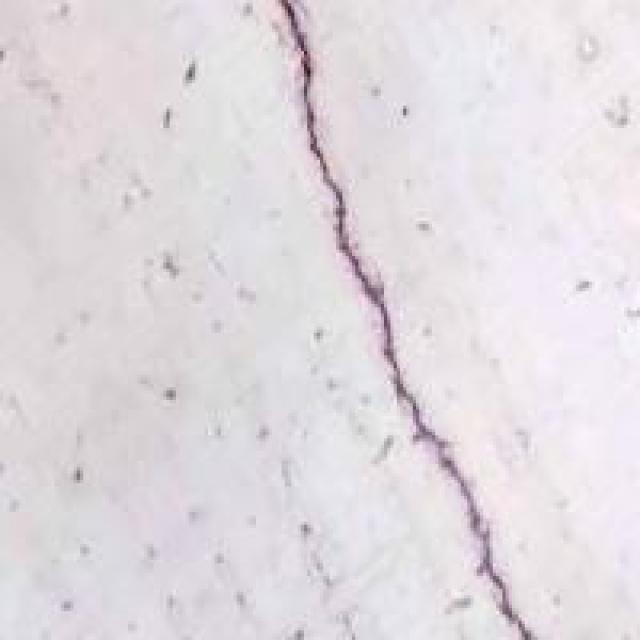Crack: (234, 0, 557, 637)
